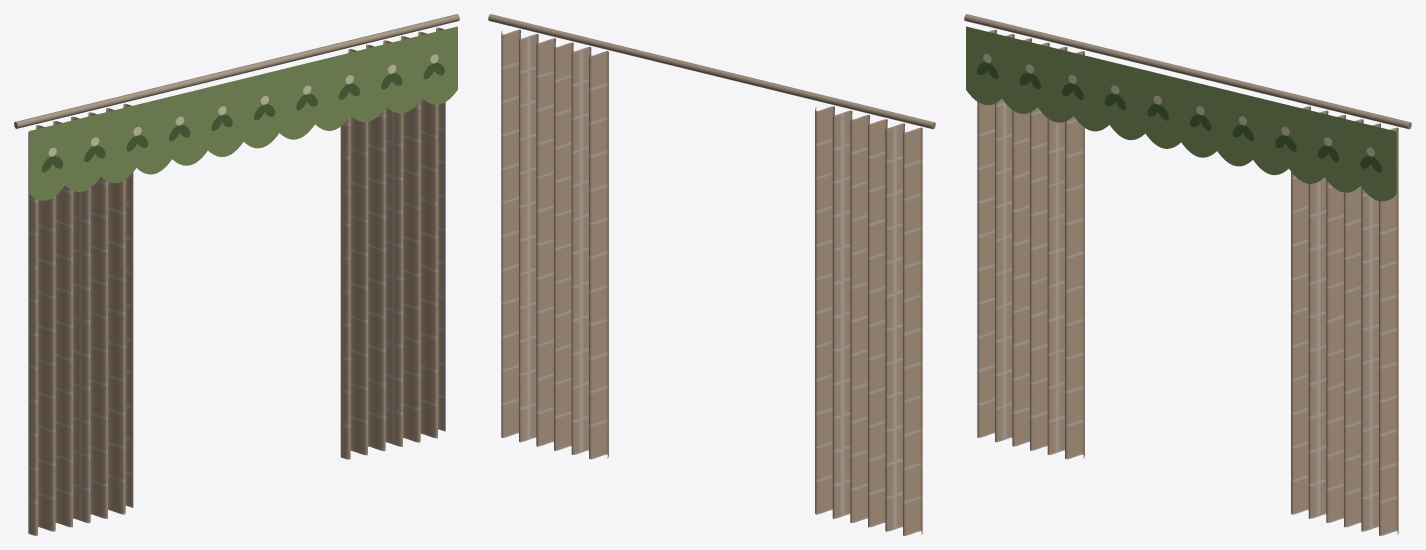
File: curtain.glb
3 views of the same model, side by side, from view 1: azimuth 30°, elevation 25°; view 2: azimuth 150°, elevation 25°; view 3: azimuth 330°, elevation 25° (orthographic).
Parts seen in each view (by area): view 1: 杏色儿童房同款方格褶皱帘布 (×2), 绿色连续波浪花边, 窗帘杆; view 2: 杏色儿童房同款方格褶皱帘布 (×2), 窗帘杆; view 3: 杏色儿童房同款方格褶皱帘布 (×2), 绿色连续波浪花边, 窗帘杆.
Boxes of the visible parts, x1,y1,x2,y2 form: 杏色儿童房同款方格褶皱帘布 (×2): [28, 27, 445, 535]; 绿色连续波浪花边: [29, 26, 457, 200]; 窗帘杆: [14, 14, 459, 128]; 杏色儿童房同款方格褶皱帘布 (×2): [501, 29, 922, 535]; 窗帘杆: [488, 14, 935, 129]; 杏色儿童房同款方格褶皱帘布 (×2): [977, 29, 1398, 535]; 绿色连续波浪花边: [966, 26, 1396, 201]; 窗帘杆: [964, 14, 1411, 129].
Size of the model in its own units: 1.98 by 1.77 by 0.096.
